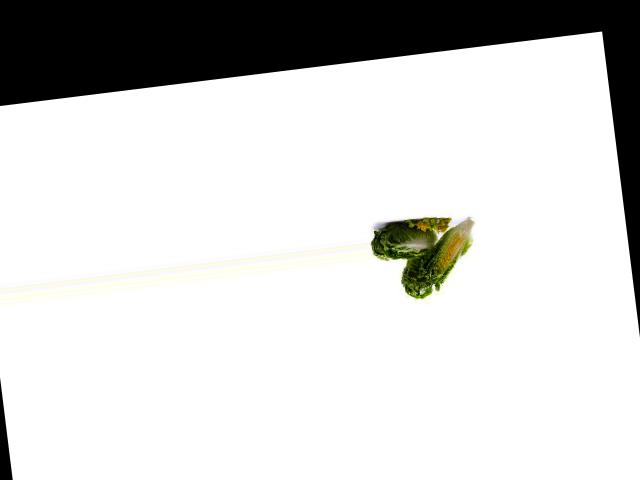lettuce: (370, 213, 447, 265)
